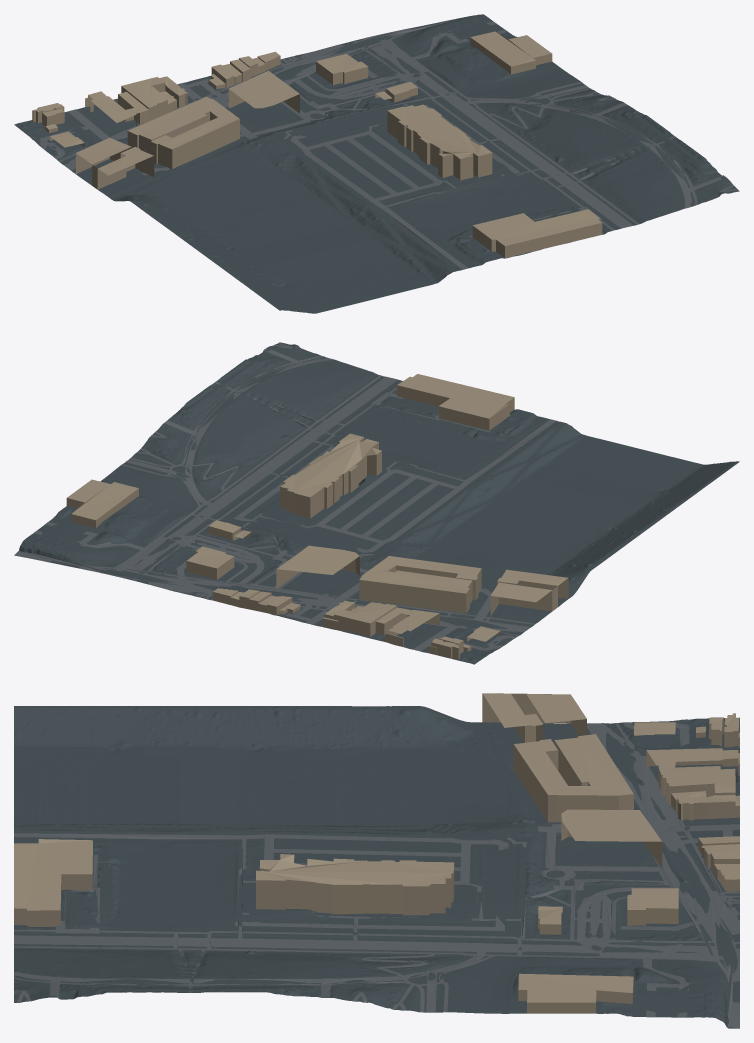
Rendered from epsg26910-1427-10873.lod0.glb.
3 renders of one model, top to bottom at view 1: azimuth 30°, elevation 25°; view 2: azimuth 150°, elevation 25°; view 3: azimuth 270°, elevation 25°, orthographic. The views are drawn at different scales.
Parts seen in each view (by area): view 1: epsg26910-1427-10873-lod0; view 2: epsg26910-1427-10873-lod0; view 3: epsg26910-1427-10873-lod0.
Part boxes in pixels (left/top/right/bottom): epsg26910-1427-10873-lod0: left=14, top=14, right=739, bottom=313; epsg26910-1427-10873-lod0: left=14, top=342, right=739, bottom=664; epsg26910-1427-10873-lod0: left=14, top=693, right=739, bottom=1028.
Size of the model in its own units: 384 by 25.97 by 384.
